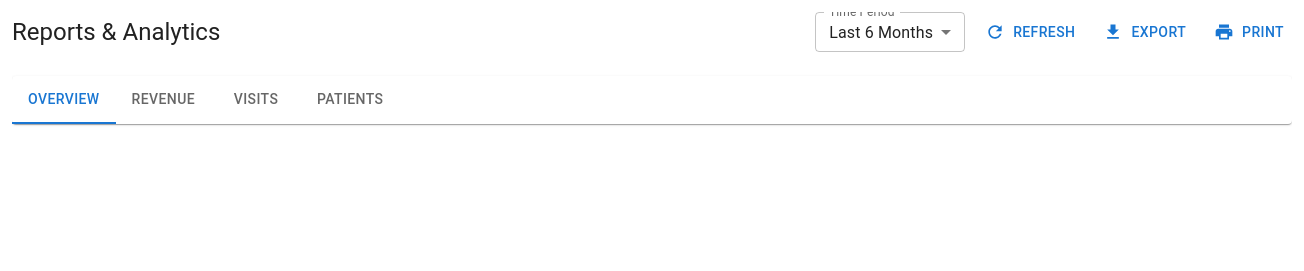
Reports › Empty data handling › shows empty message when no visit data
The image size is (1304, 271).
Expected: the heading "Reports & Analytics" is shown, left=12, top=16, right=220, bottom=48
Click the tab "Visits": [256, 100] box left=211, top=76, right=301, bottom=124
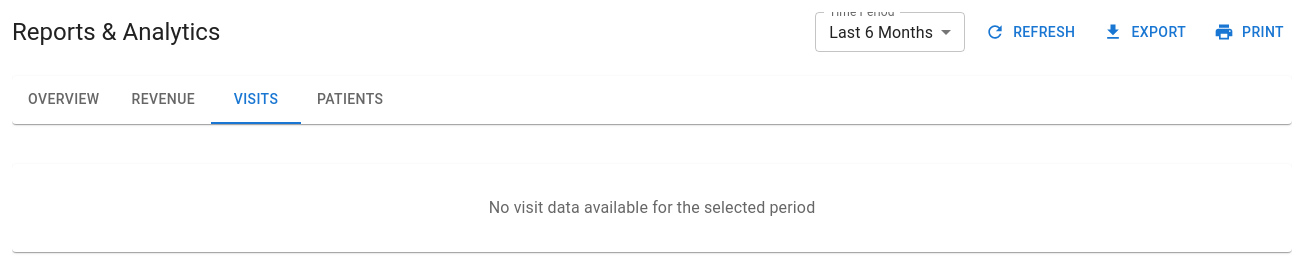
Now the text "No visit data available for the selected period" is shown, box left=489, top=198, right=815, bottom=217
